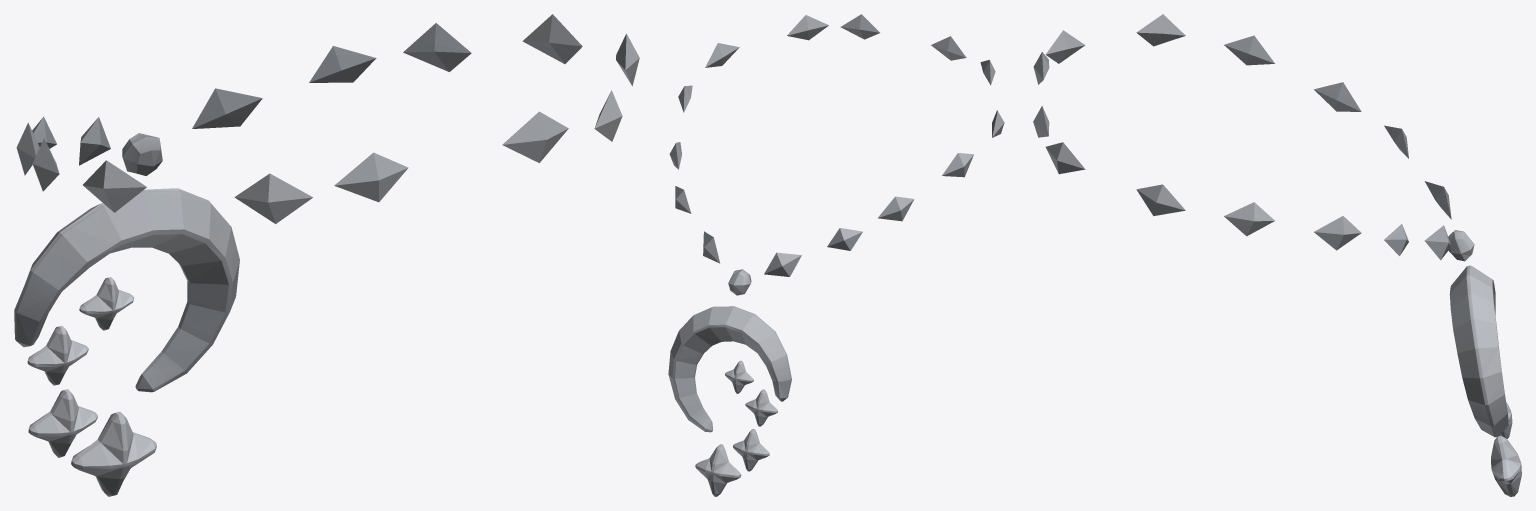
The model's file is CharSkyKid_Neck_AP18Pendant.glb.
3 renders of one model, left to right at view 1: azimuth 30°, elevation 25°; view 2: azimuth 150°, elevation 25°; view 3: azimuth 270°, elevation 25°, orthographic. The views are drawn at different scales.
Visible parts, largest first — view 1: CharSkyKid_Neck_AP18Pendant; view 2: CharSkyKid_Neck_AP18Pendant; view 3: CharSkyKid_Neck_AP18Pendant.
Boxes of the visible parts, left/top/right/bottom form: CharSkyKid_Neck_AP18Pendant: left=14, top=14, right=639, bottom=496; CharSkyKid_Neck_AP18Pendant: left=668, top=14, right=1004, bottom=496; CharSkyKid_Neck_AP18Pendant: left=1033, top=14, right=1521, bottom=496.
Size of the model in its own units: 1.79 by 1.97 by 2.1.
1 material, 1 textured.
